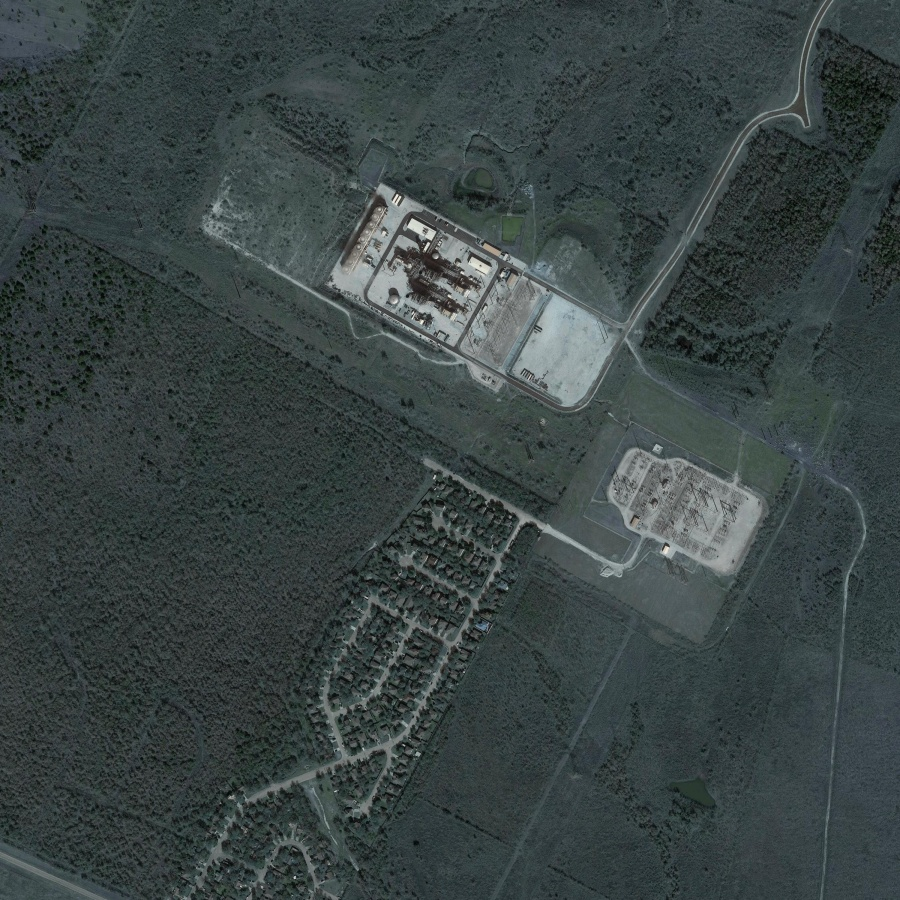PowerPlant: (331, 186, 541, 376), (605, 432, 752, 568)
